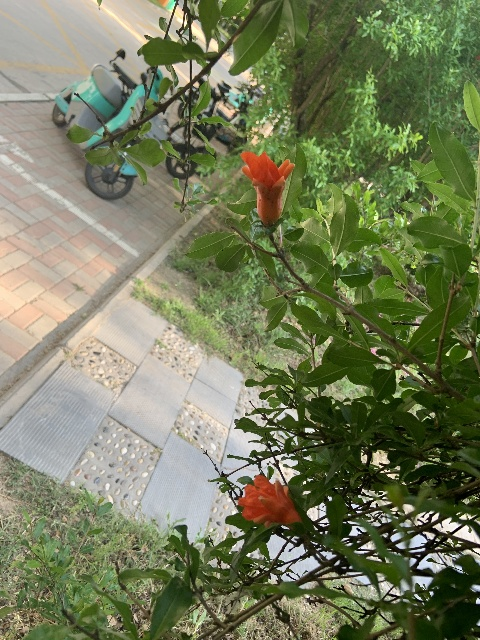flower: (240, 150, 293, 226), (236, 473, 302, 528)
